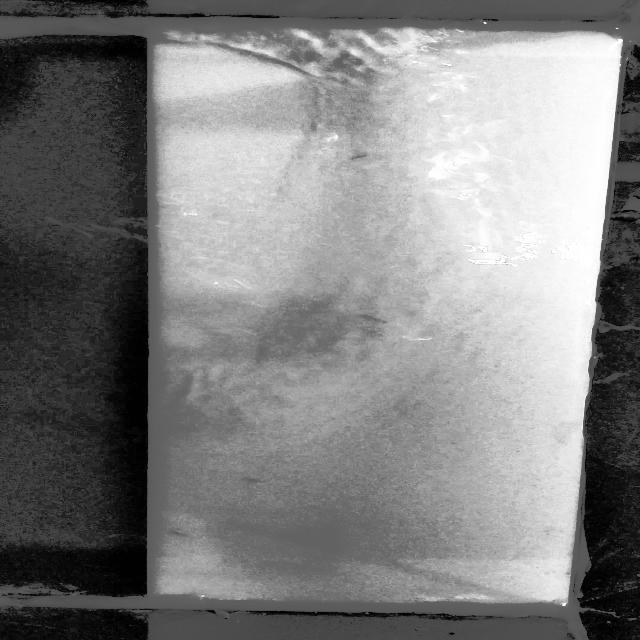shrimp: (162, 522, 196, 540), (244, 476, 273, 486)
